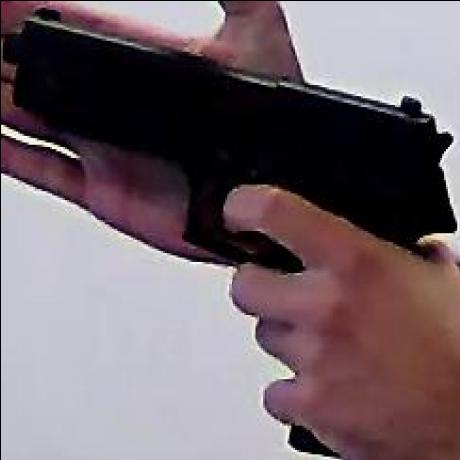1: (217, 172, 460, 458)
weapon: (11, 13, 446, 258)
